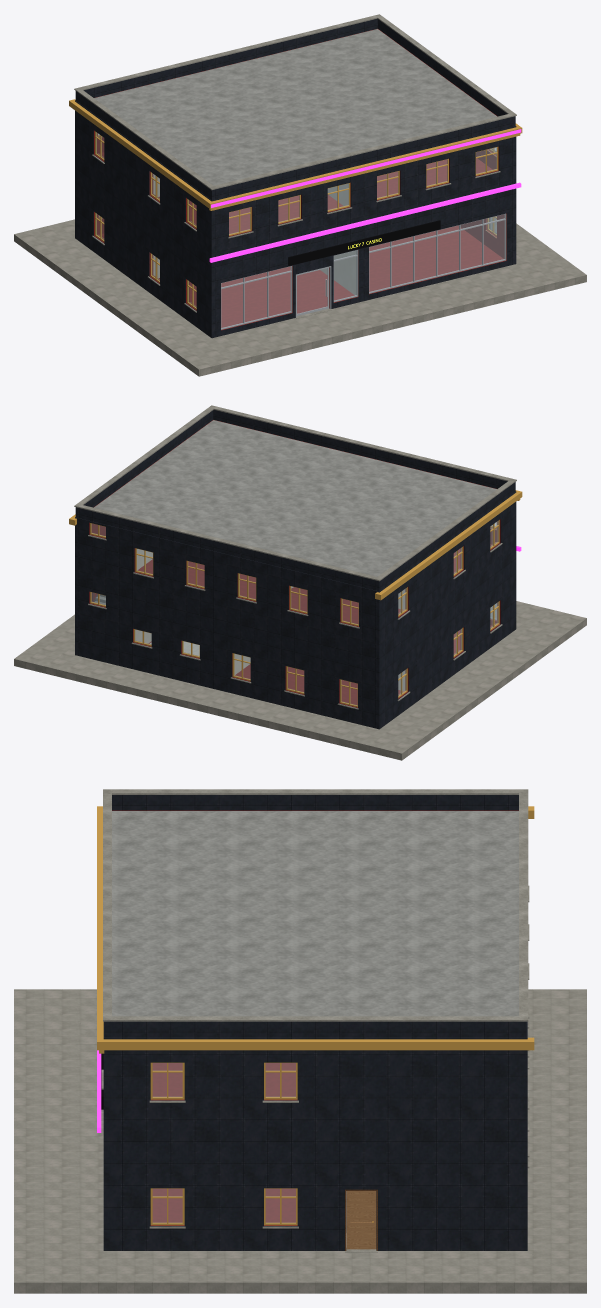
Rendered from b_lucky7_casino.gltf.
3 views of the same model, one above another, from view 1: azimuth 30°, elevation 25°; view 2: azimuth 150°, elevation 25°; view 3: azimuth 270°, elevation 25° (orthographic). The views are drawn at different scales.
Parts seen in each view (by area): view 1: S_lucky7_casino, D_lucky7_casino_F1_S3_Door0; view 2: S_lucky7_casino; view 3: S_lucky7_casino, D_lucky7_casino_F1_E2_Door0.
Boxes of the visible parts, x1,y1,x2,y2 form: S_lucky7_casino: [14, 14, 586, 376]; D_lucky7_casino_F1_S3_Door0: [296, 267, 329, 316]; S_lucky7_casino: [14, 405, 586, 760]; S_lucky7_casino: [14, 789, 586, 1293]; D_lucky7_casino_F1_E2_Door0: [346, 1191, 376, 1249].
Size of the model in its own units: 23 by 8.86 by 19.
Materials: 20 (10 with a texture image).
